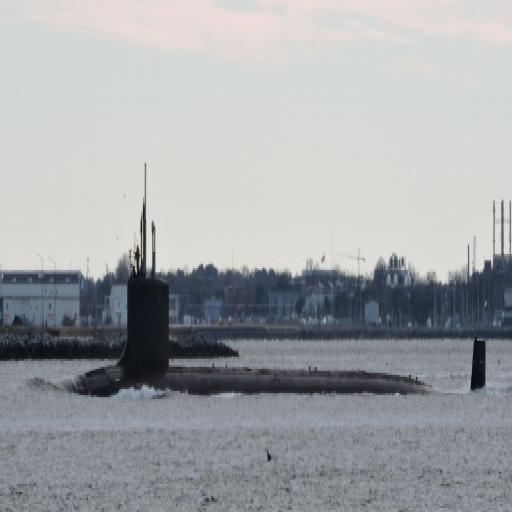submarine: (70, 279, 482, 398)
